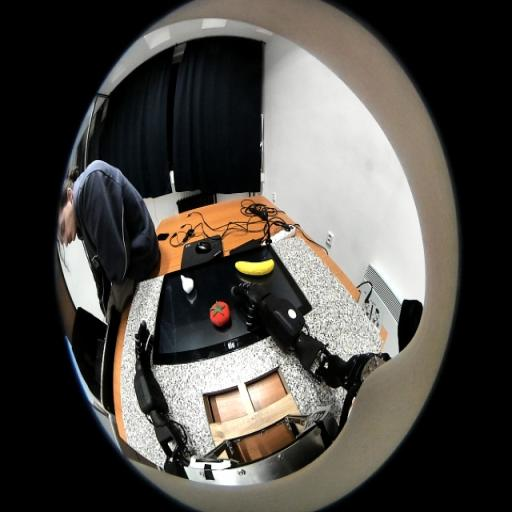Banana: (235, 259, 275, 275)
LeftHand: (135, 344, 150, 363)
Onion: (181, 275, 194, 294)
RightHand: (248, 285, 266, 299)
Tomato: (210, 300, 230, 326)
